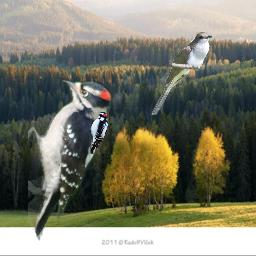Cuckoo: (151, 32, 212, 115)
Woodpecker: (28, 75, 114, 241), (88, 112, 109, 154)
